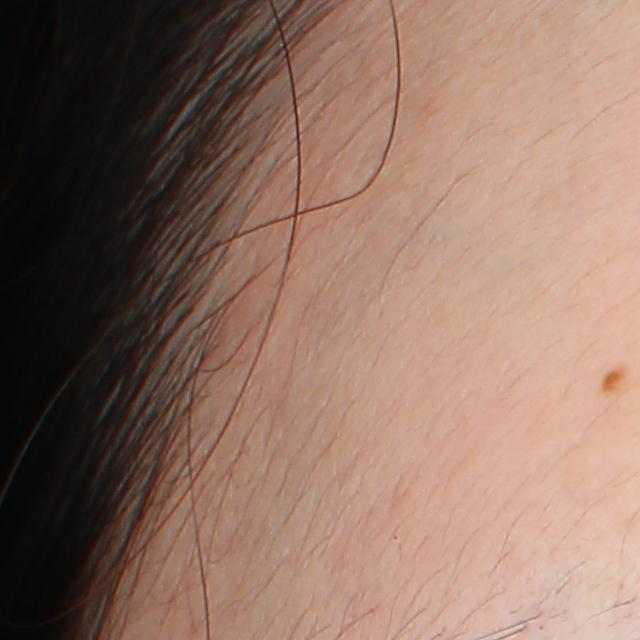nevus: (595, 367, 623, 392)
